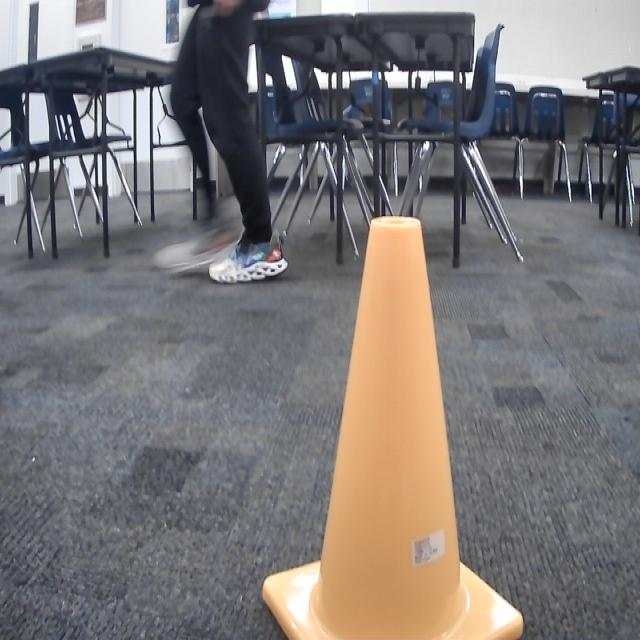cone: (256, 210, 529, 640)
